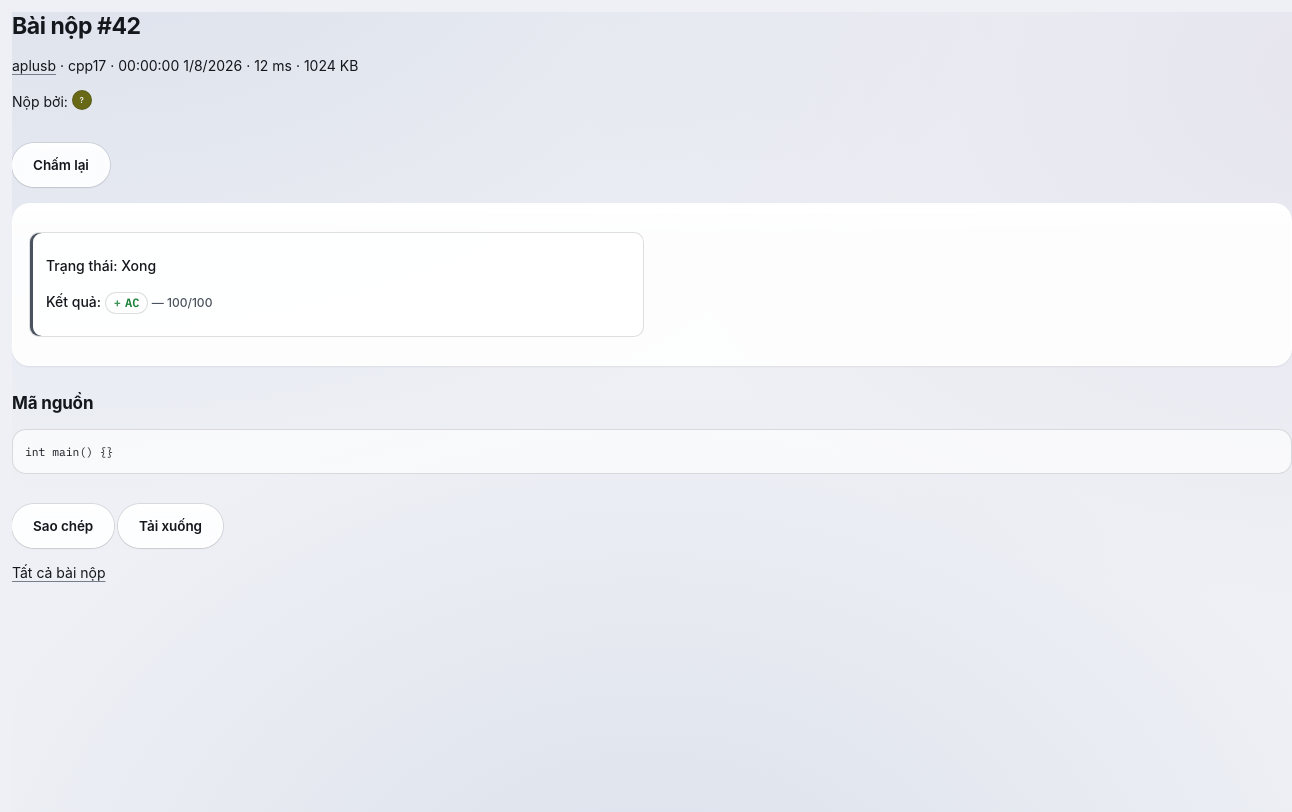
Test: rejudging one submission › names the rated contests to re-rate, because the rejudge will not (D21)
What coordinates should you click on to do the following:
click the button "Chấm lại"
I would click on:
 (61, 165)
Its box is [12,143,110,187].
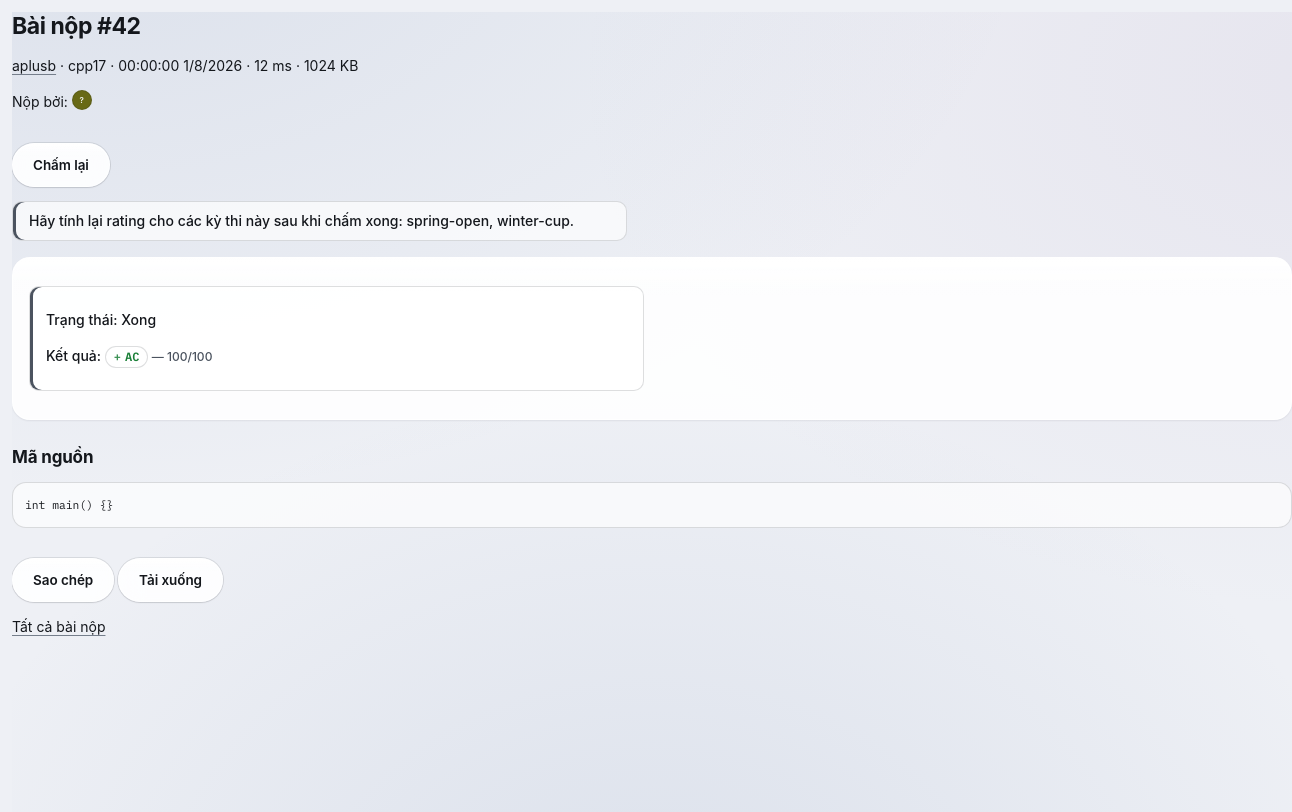
Expected: the text "Hãy tính lại rating" shows "Hãy tính lại rating cho các kỳ thi này sau khi chấm xong: spring-open, winter-cup.", [29,212,574,229]
